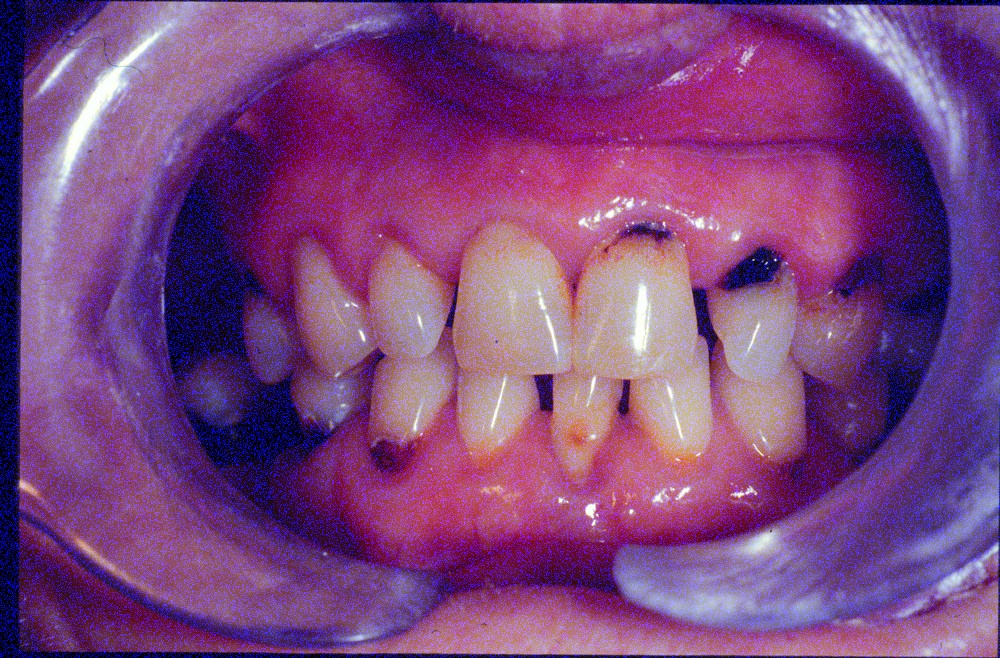karies: (286, 403, 351, 461), (715, 245, 789, 294), (604, 217, 680, 260), (751, 446, 822, 489), (834, 251, 892, 303), (367, 435, 424, 477)
